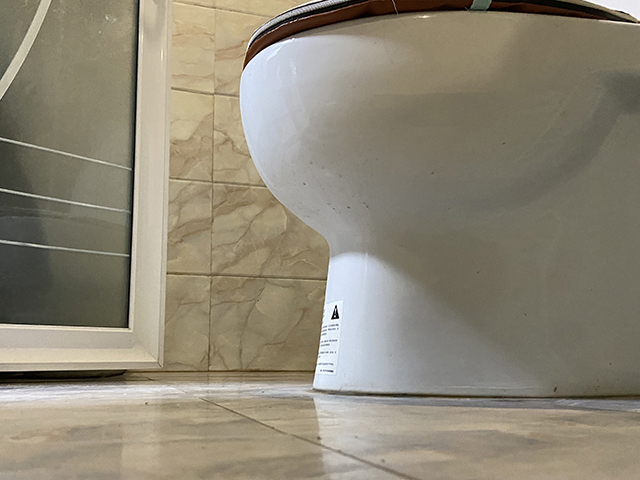closestool: (238, 1, 640, 400)
